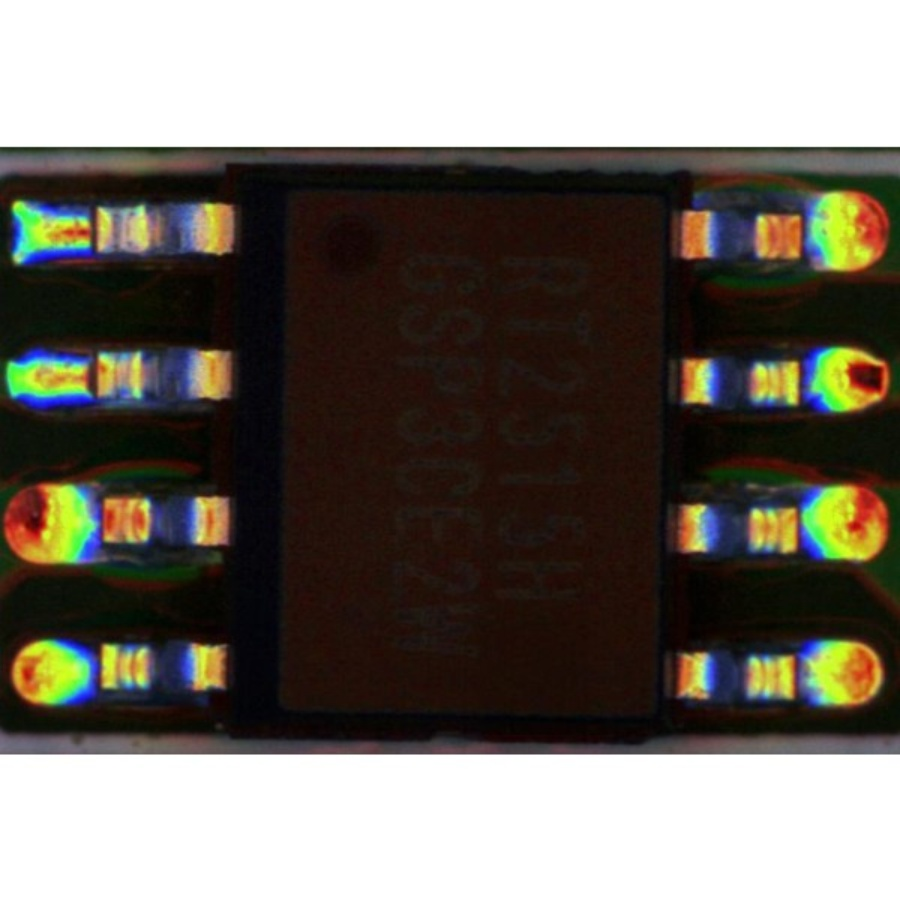Bad_podu: (53, 216, 114, 251), (52, 363, 119, 387)
